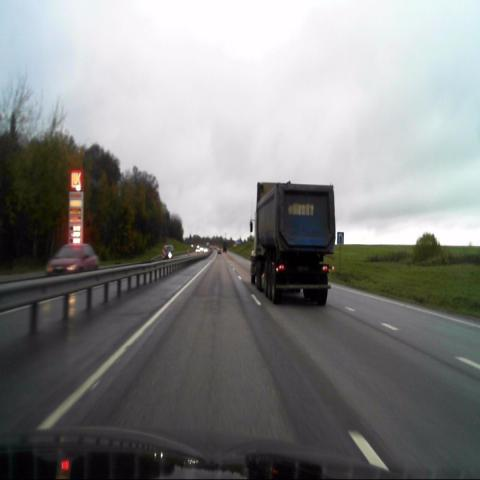5_15_5: (336, 232, 344, 245)
